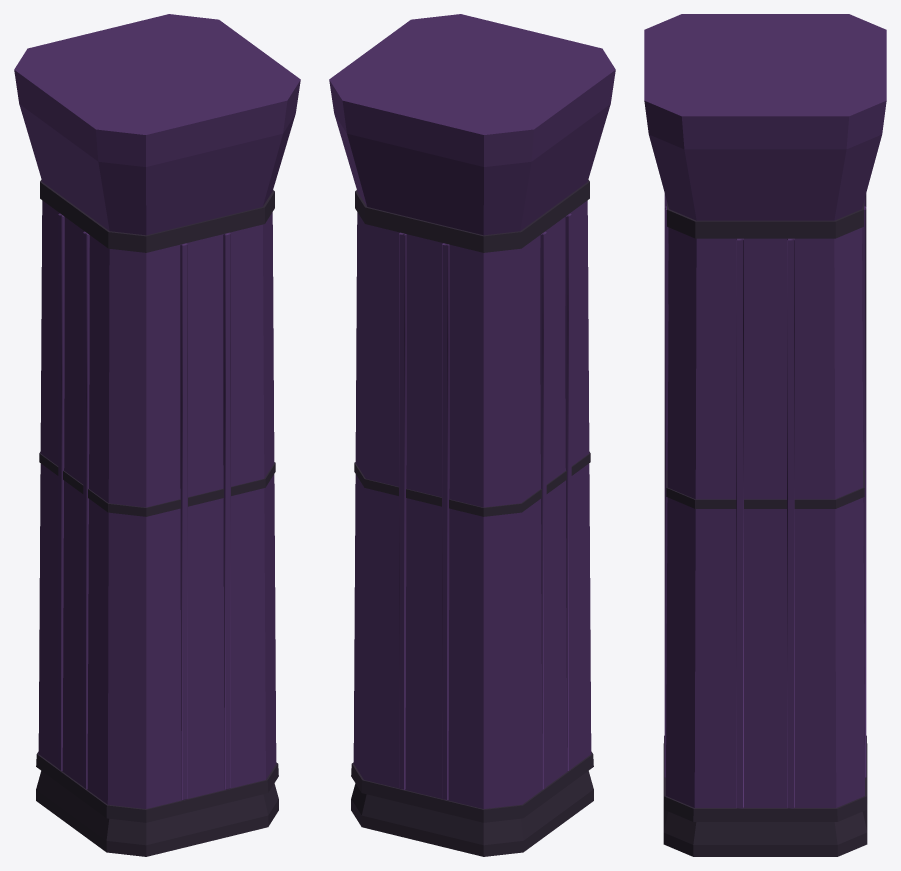
File: SM_SB_Kit_AlienColumn_300x300x1500.fbx
3 views of the same model, side by side, from view 1: azimuth 30°, elevation 25°; view 2: azimuth 150°, elevation 25°; view 3: azimuth 270°, elevation 25° (orthographic). The views are drawn at different scales.
Parts seen in each view (by area): view 1: SM_SB_Kit_AlienColumn_300x300x1500; view 2: SM_SB_Kit_AlienColumn_300x300x1500; view 3: SM_SB_Kit_AlienColumn_300x300x1500.
Part boxes in pixels (bbox=[...]): SM_SB_Kit_AlienColumn_300x300x1500: bbox=[14, 14, 300, 856]; SM_SB_Kit_AlienColumn_300x300x1500: bbox=[329, 14, 615, 856]; SM_SB_Kit_AlienColumn_300x300x1500: bbox=[644, 14, 886, 856].
Bounding box in the file's own units: 440 × 440 × 1500.
